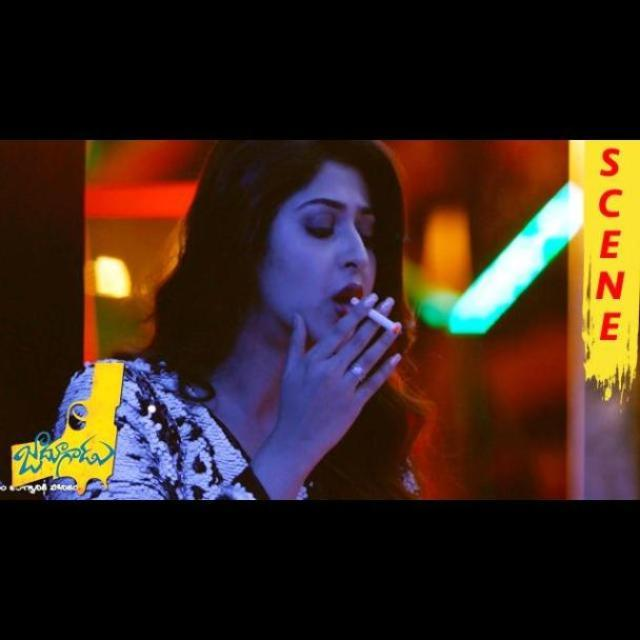rokok: (332, 278, 406, 342)
